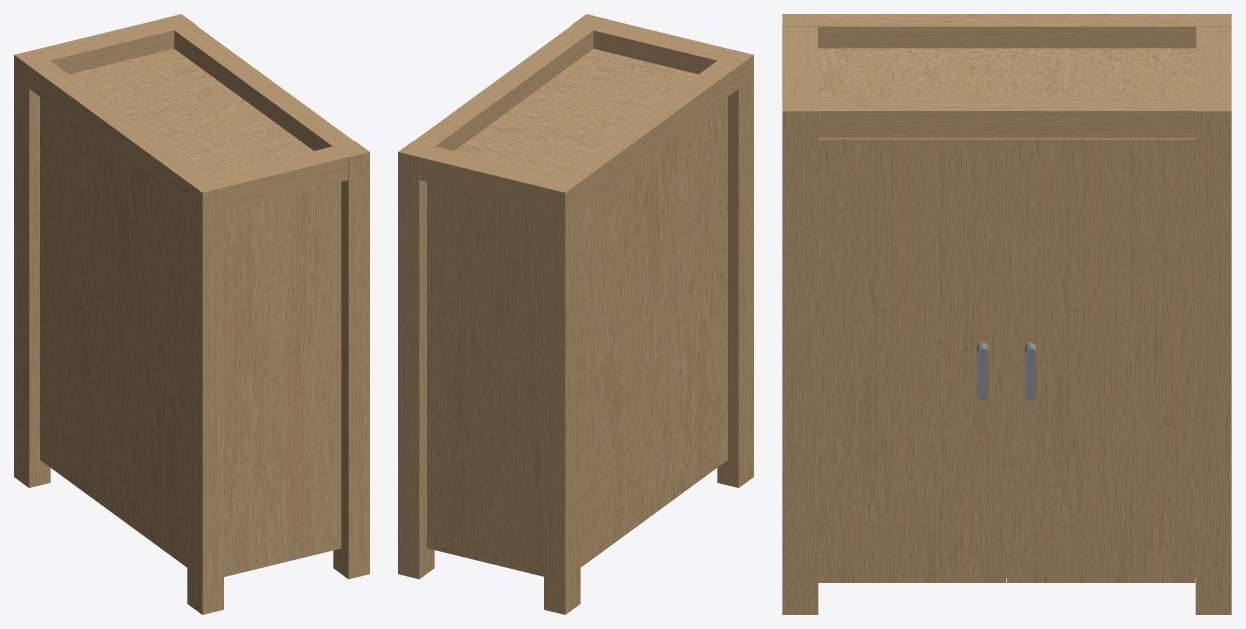
3 views of the same model, side by side, from view 1: azimuth 30°, elevation 25°; view 2: azimuth 150°, elevation 25°; view 3: azimuth 270°, elevation 25° (orthographic). The views are drawn at different scales.
Visible parts, largest first — view 1: 옷장.001; view 2: 옷장.001; view 3: 옷장.001, 옷장_왼쪽문.001, 옷장_오른쪽문.001.
Boxes of the visible parts, x1=… form: 옷장.001: x1=14, y1=14, x2=369, y2=614; 옷장.001: x1=398, y1=14, x2=753, y2=614; 옷장.001: x1=782, y1=14, x2=1231, y2=614; 옷장_왼쪽문.001: x1=818, y1=138, x2=1006, y2=582; 옷장_오른쪽문.001: x1=1007, y1=138, x2=1195, y2=582.
Size of the model in its own units: 188 by 428 by 347.
5 materials, 5 textured.
